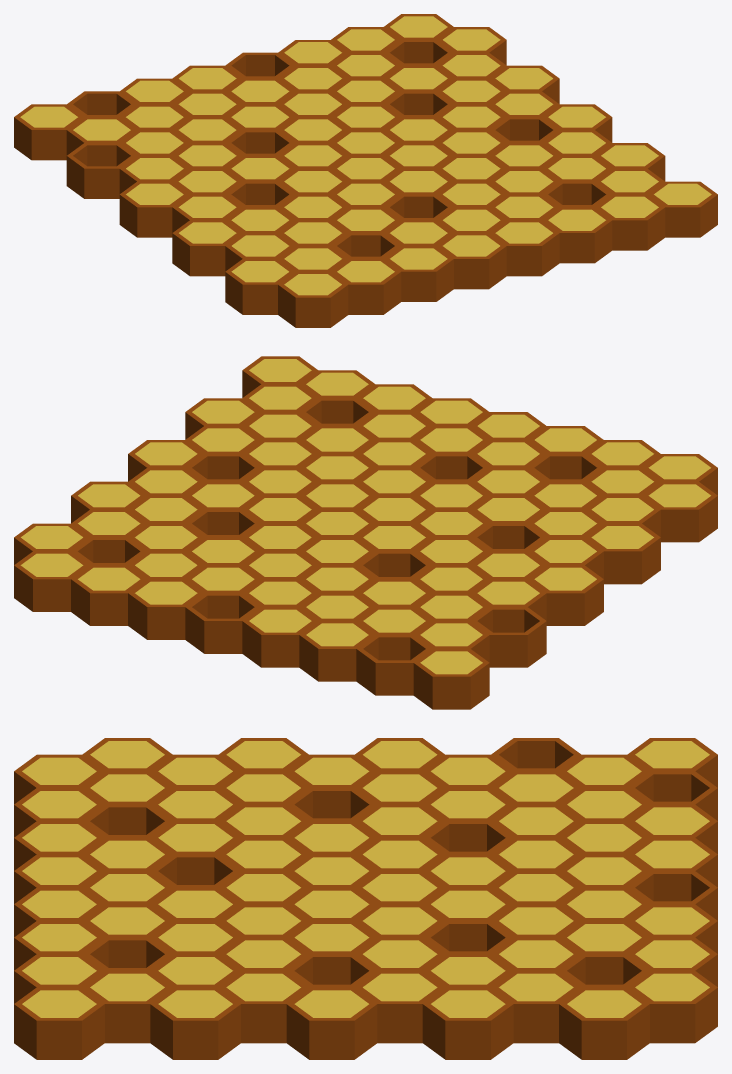
File: HoneyComb_Platform.fbx
3 renders of one model, top to bottom at view 1: azimuth 30°, elevation 25°; view 2: azimuth 150°, elevation 25°; view 3: azimuth 270°, elevation 25°, orthographic. The views are drawn at different scales.
Parts seen in each view (by area): view 1: Cylinder; view 2: Cylinder; view 3: Cylinder.
Boxes of the visible parts, box(x1,y1,x2,y2) form: Cylinder: box(14, 14, 717, 327); Cylinder: box(14, 356, 717, 709); Cylinder: box(14, 738, 717, 1059).
Size of the model in its own units: 1472 by 95.15 by 1550.
